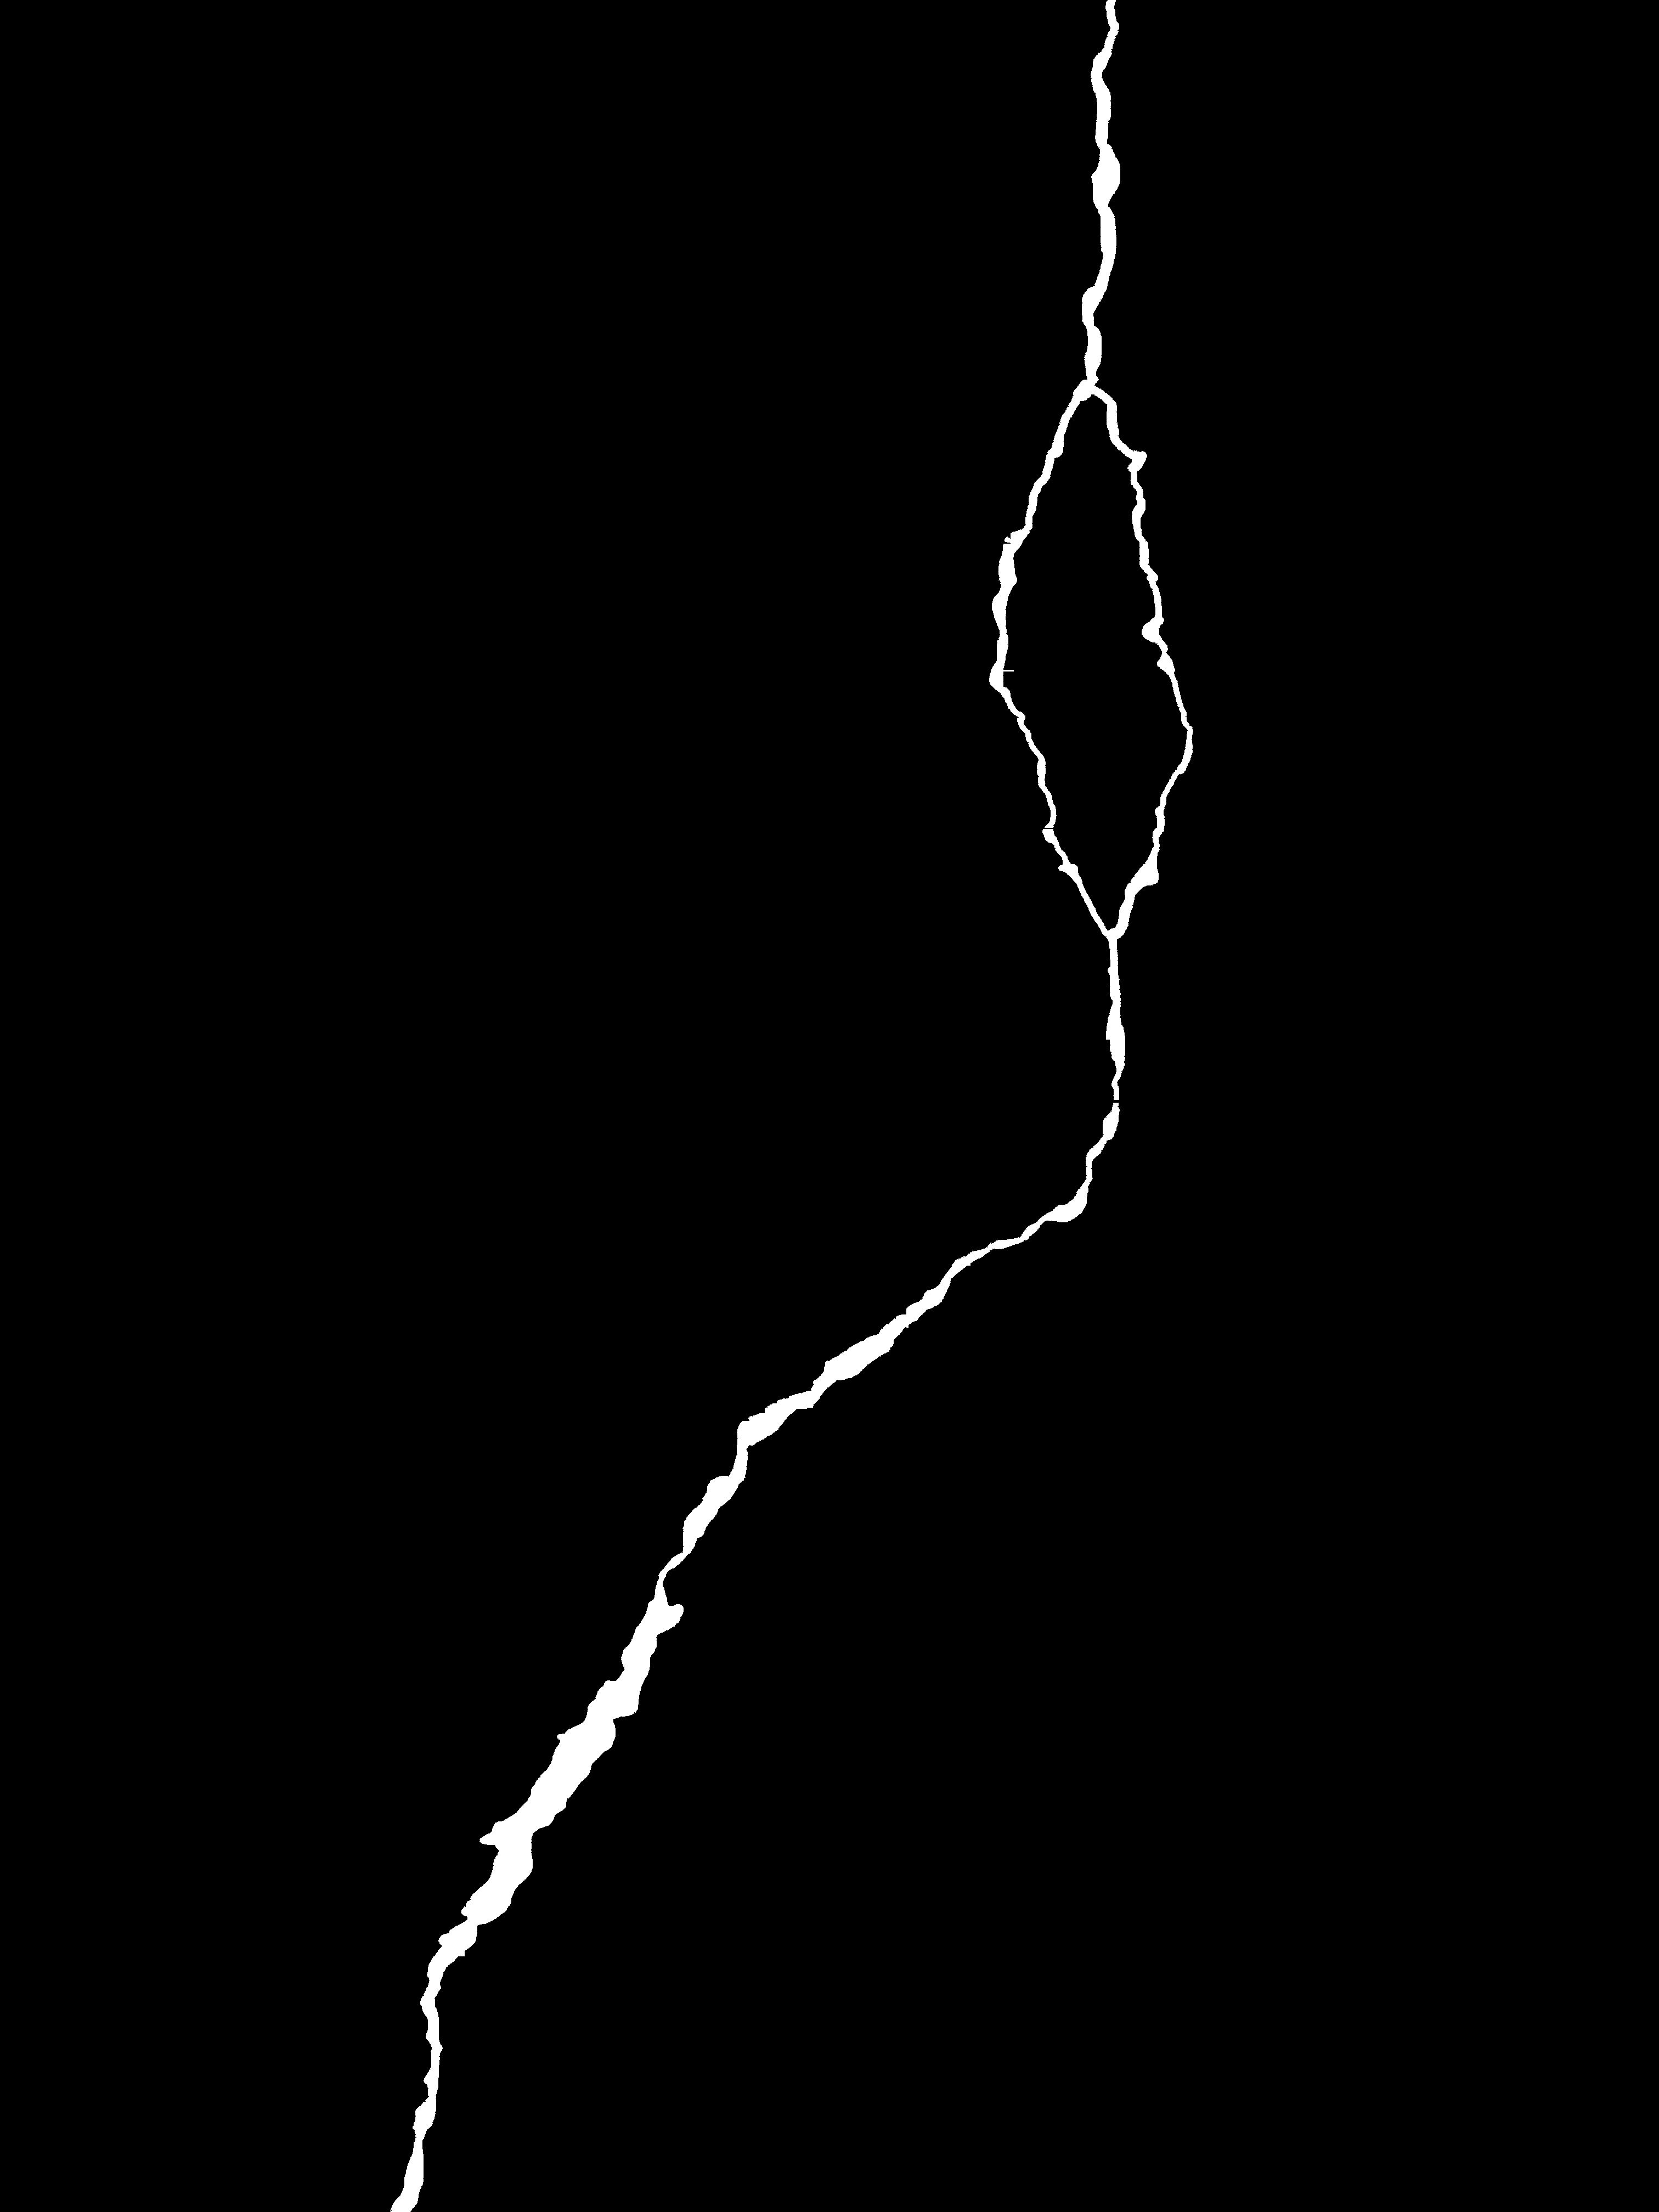Crack: (349, 0, 1215, 2212)
